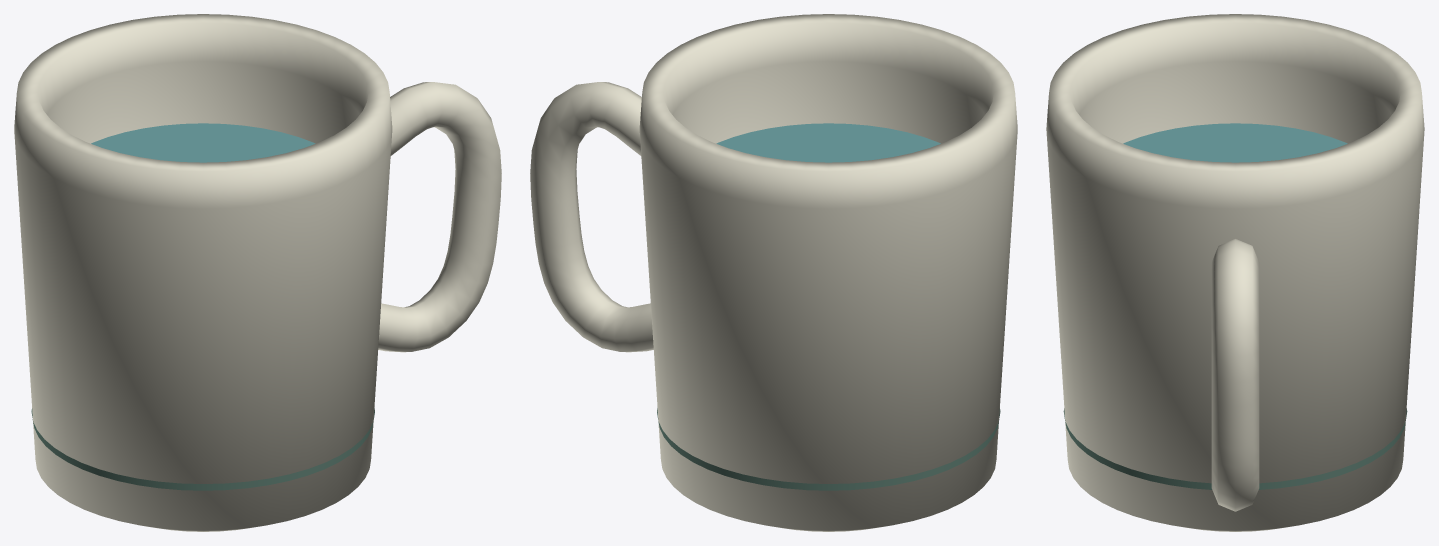
The model's file is mug.glb.
3 views of the same model, side by side, from view 1: azimuth 30°, elevation 25°; view 2: azimuth 150°, elevation 25°; view 3: azimuth 270°, elevation 25° (orthographic).
Parts seen in each view (by area): view 1: mug; view 2: mug; view 3: mug.
Boxes of the visible parts, box(x1,y1,x2,y2) form: mug: box(14, 14, 501, 531); mug: box(530, 14, 1017, 531); mug: box(1046, 14, 1424, 531).
Size of the model in its own units: 0.1994 by 0.16 by 0.142.
